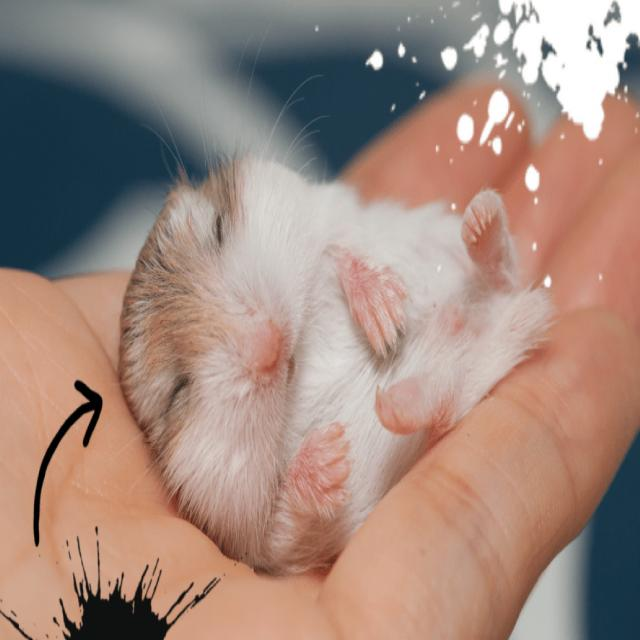hamster: (116, 152, 544, 566)
